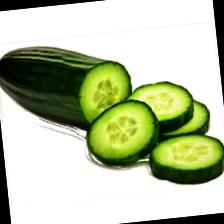cucumber: (0, 36, 136, 141)
